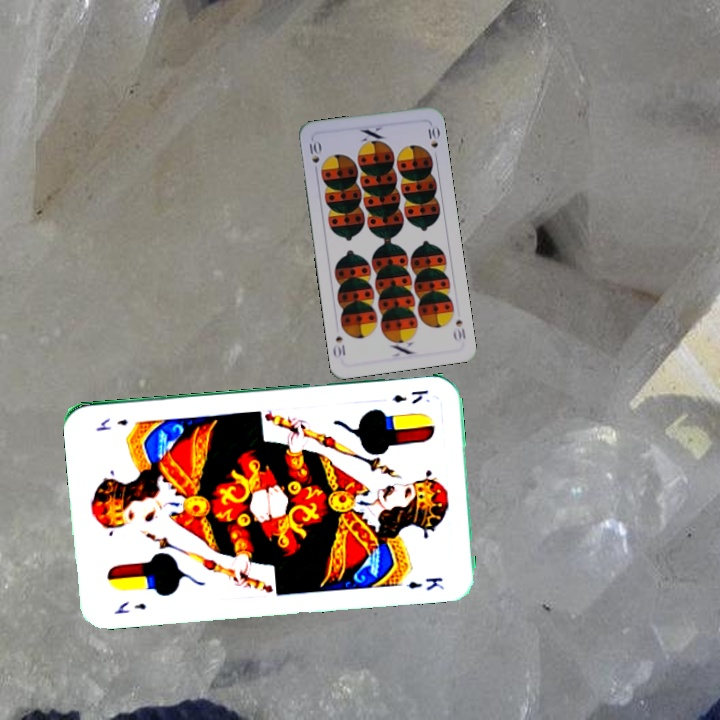EK: (388, 385, 430, 407), (111, 597, 149, 616)
S10: (449, 315, 468, 345), (305, 137, 322, 166)
